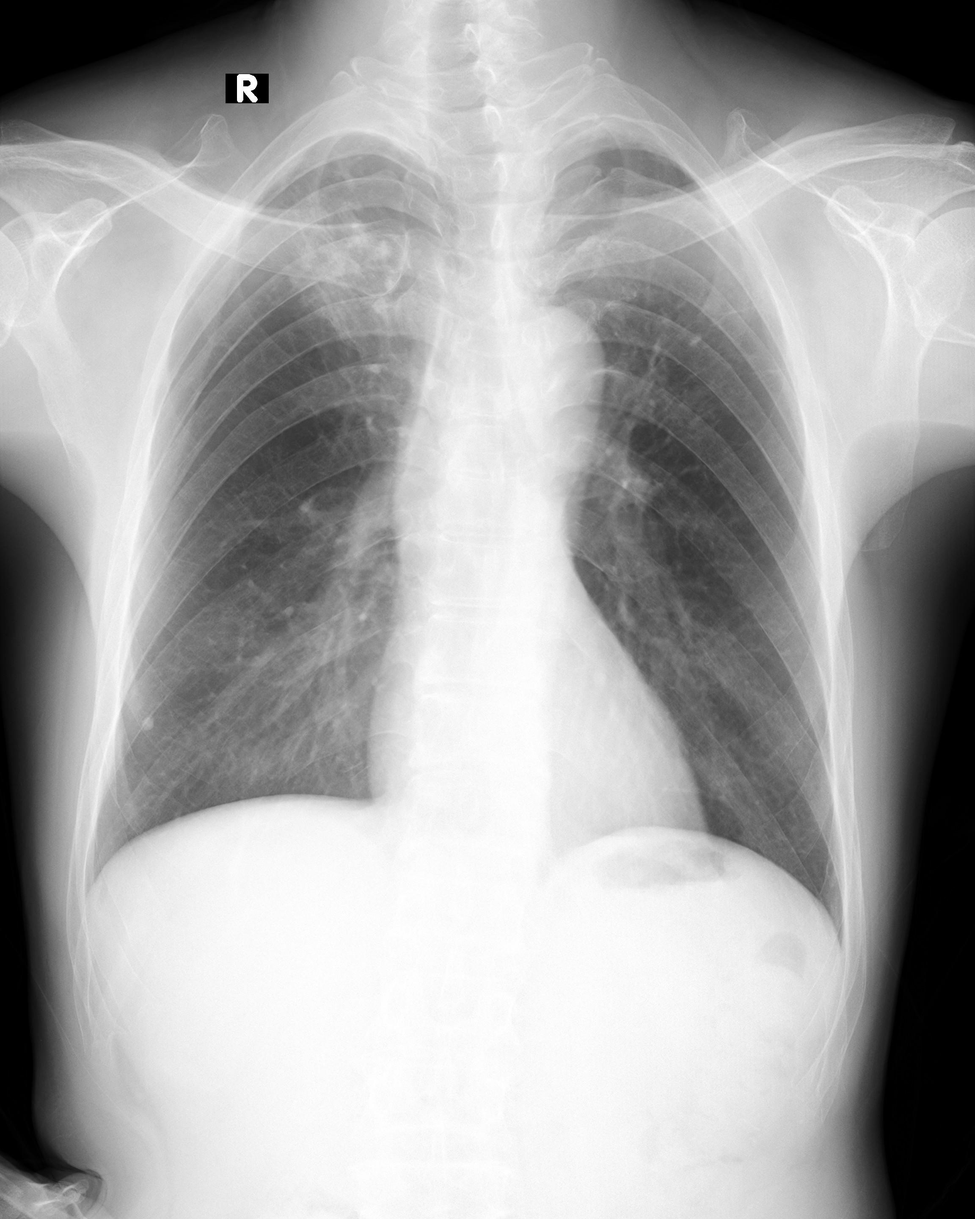Aortic enlargement: (494, 305, 609, 423)
Pleural thickening: (559, 118, 675, 160)
Pulmonary fibrosis: (264, 140, 428, 371), (648, 294, 762, 365)
